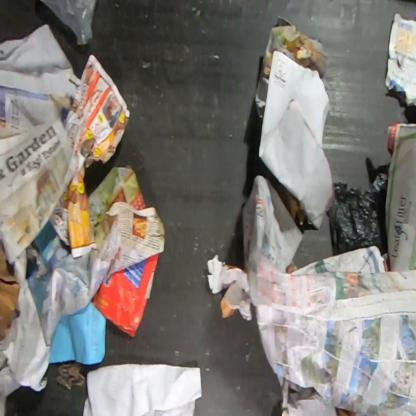cardboard: (91, 252, 161, 338), (87, 166, 147, 252)
soft_plastic: (326, 171, 388, 257), (40, 0, 98, 46)
